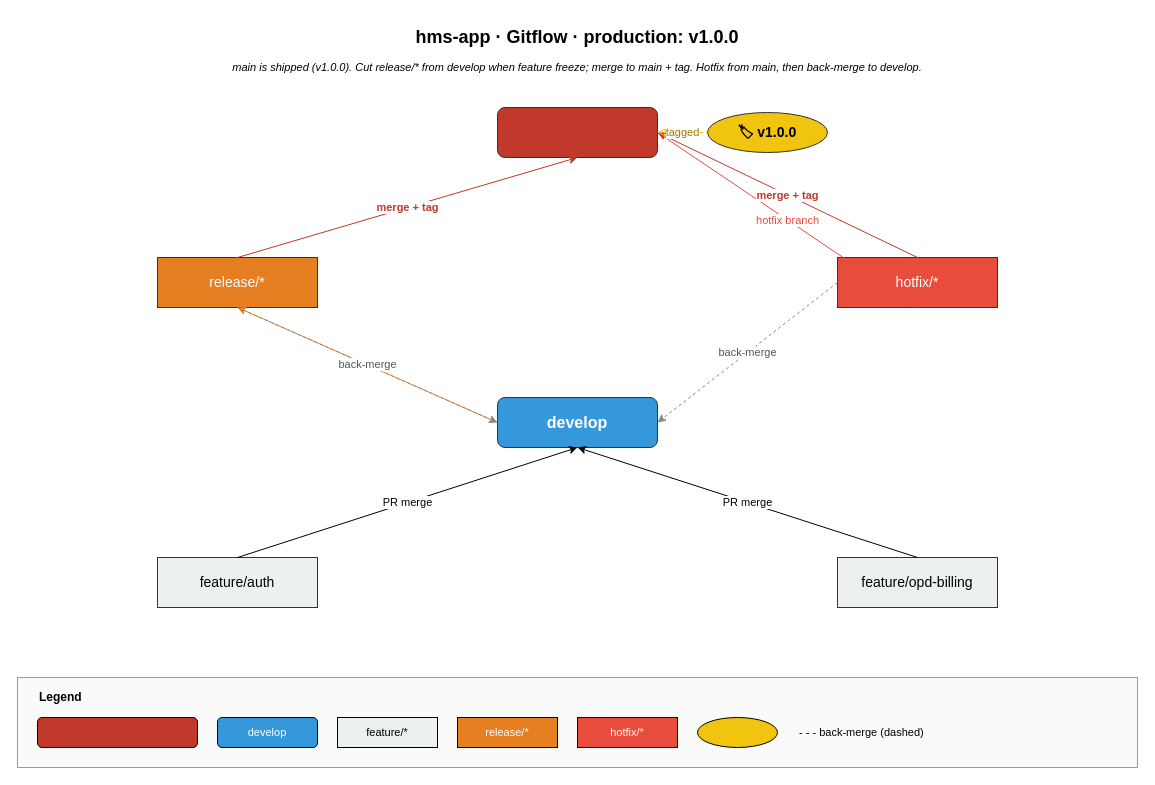
The diagram is 1155 pixels wide and 785 high, and some of its shapes have lost their labels. The centre of each missing label's shape, as x and y in pixels:
"main" belongs at (x=577, y=132).
"main (production)" belongs at (x=117, y=732).
"🏷 tag" belongs at (x=737, y=732).
